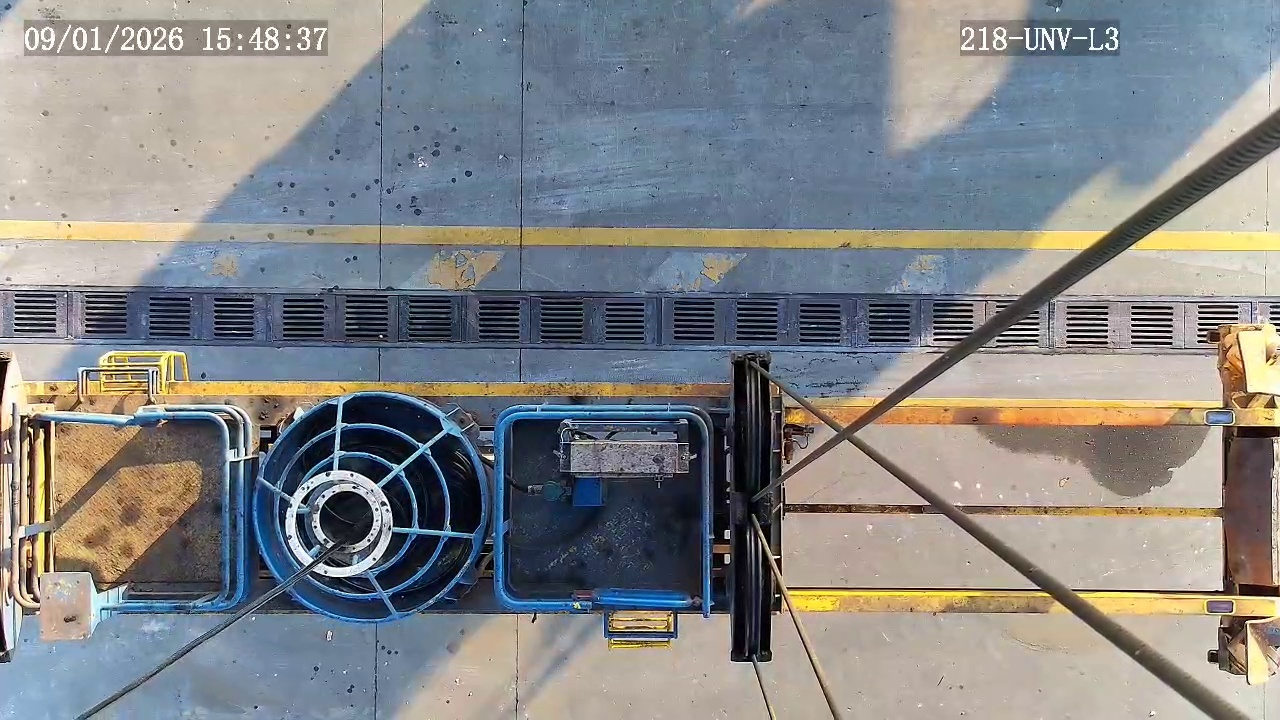right: (284, 470, 392, 574)
